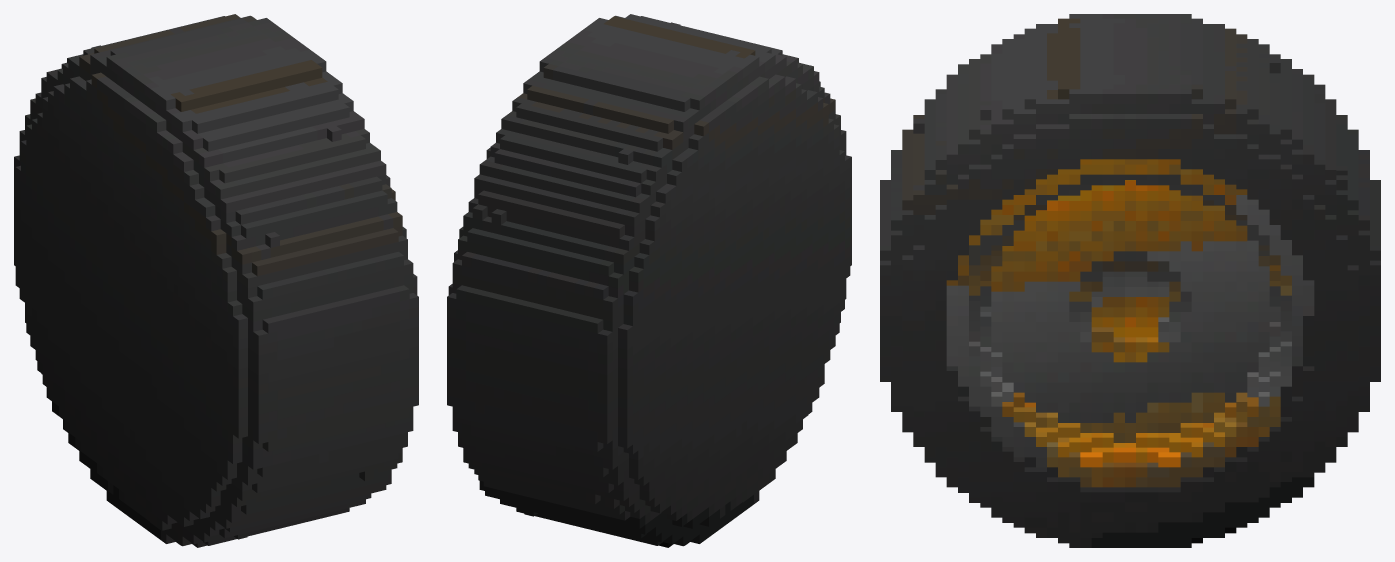
Rendered from WheelObj.obj.
The picture shows the model from 3 angles, left to right: view 1: azimuth 30°, elevation 25°; view 2: azimuth 150°, elevation 25°; view 3: azimuth 270°, elevation 25°; orthographic projection. The views are drawn at different scales.
Bounding box in the file's own units: 1.9 × 4.5 × 4.5.
